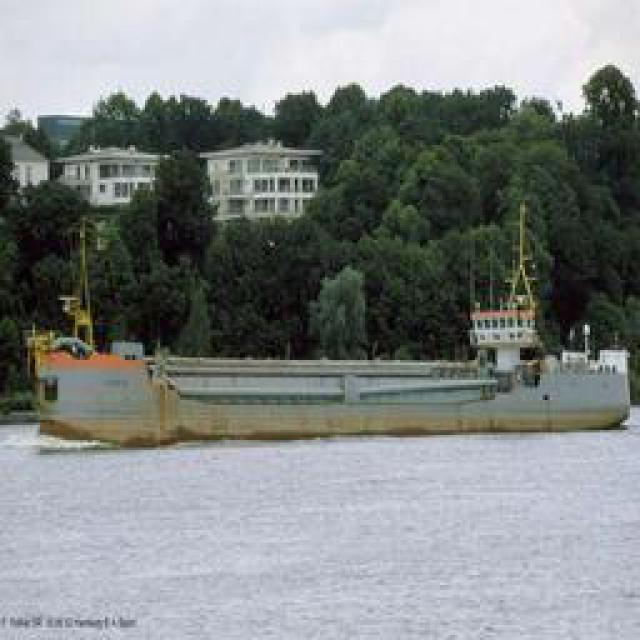Ship: (41, 344, 631, 437)
